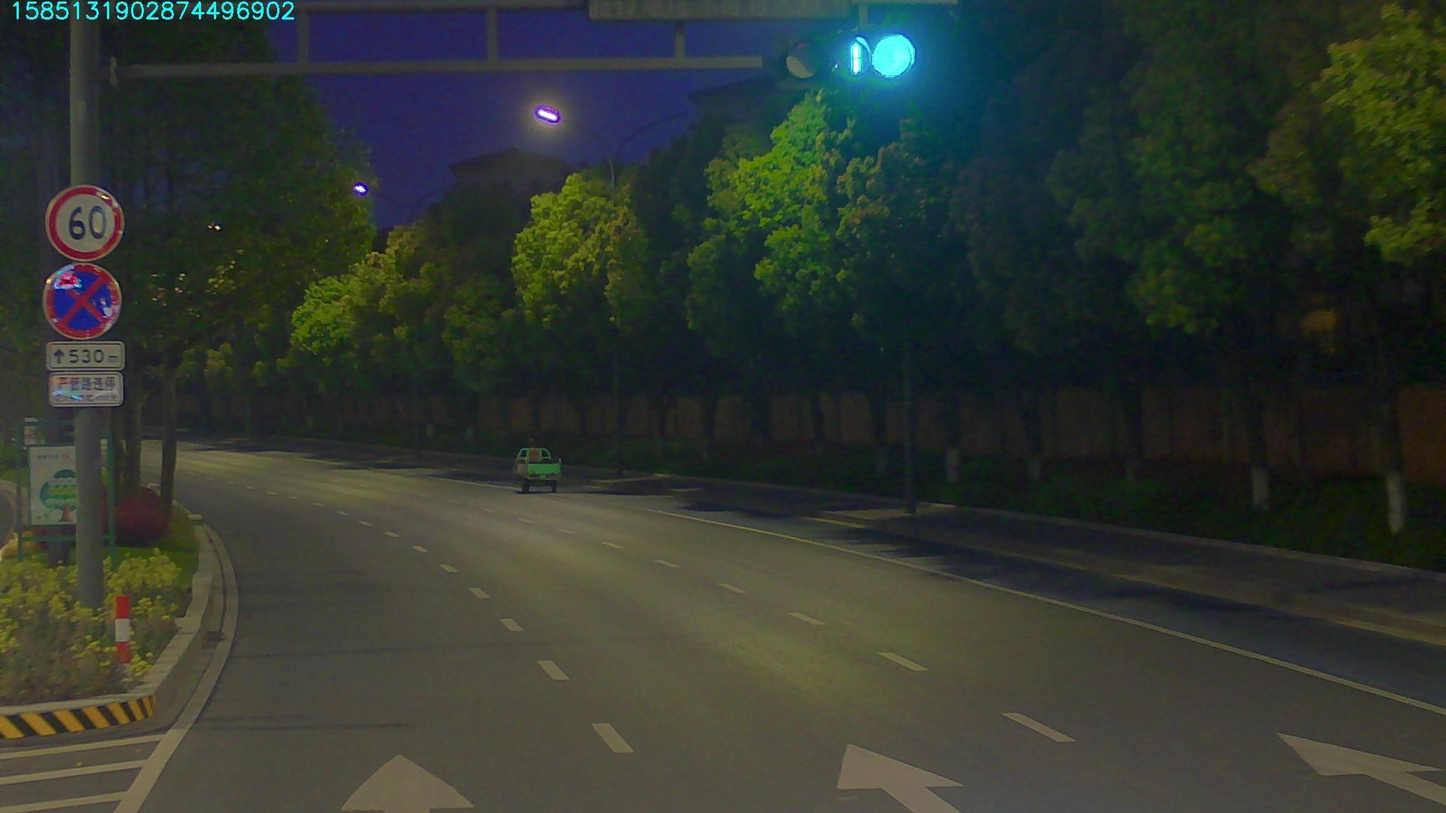green: (831, 31, 935, 90)
